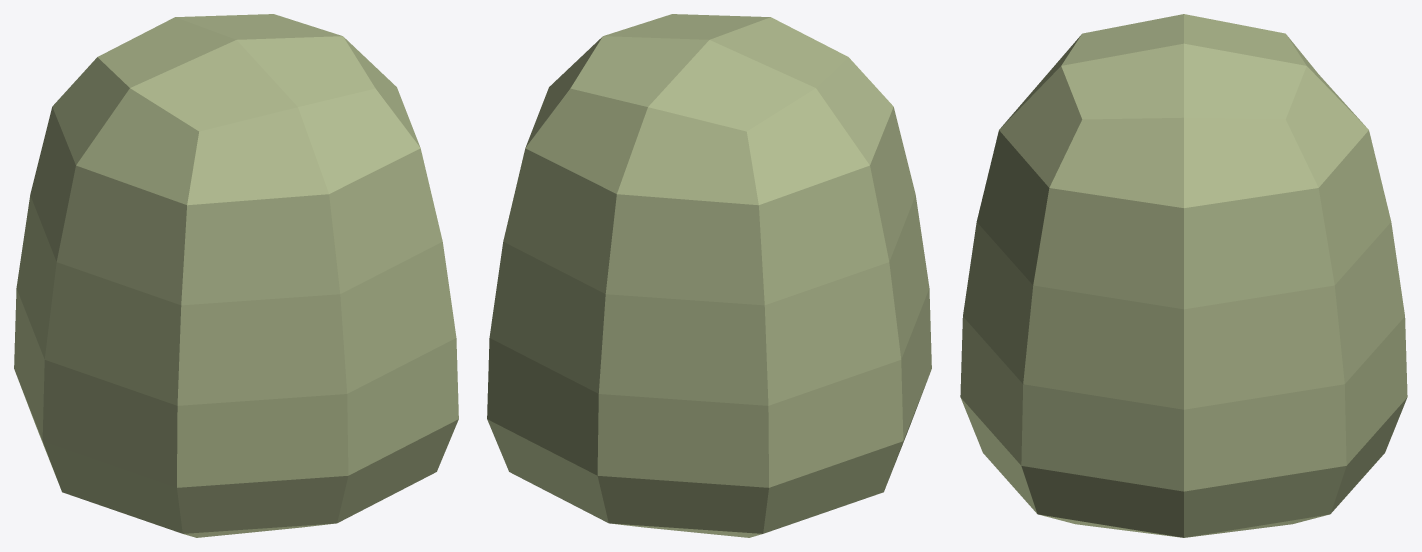
Rendered from lettuce.glb.
3 views of the same model, side by side, from view 1: azimuth 30°, elevation 25°; view 2: azimuth 150°, elevation 25°; view 3: azimuth 270°, elevation 25° (orthographic).
Visible parts, largest first — view 1: Lettuce_Crop; view 2: Lettuce_Crop; view 3: Lettuce_Crop.
Boxes of the visible parts, x1,y1,x2,y2 form: Lettuce_Crop: (14, 14, 458, 537); Lettuce_Crop: (487, 14, 931, 537); Lettuce_Crop: (960, 14, 1407, 537).
Size of the model in its own units: 0.3644 by 0.4038 by 0.3644.
